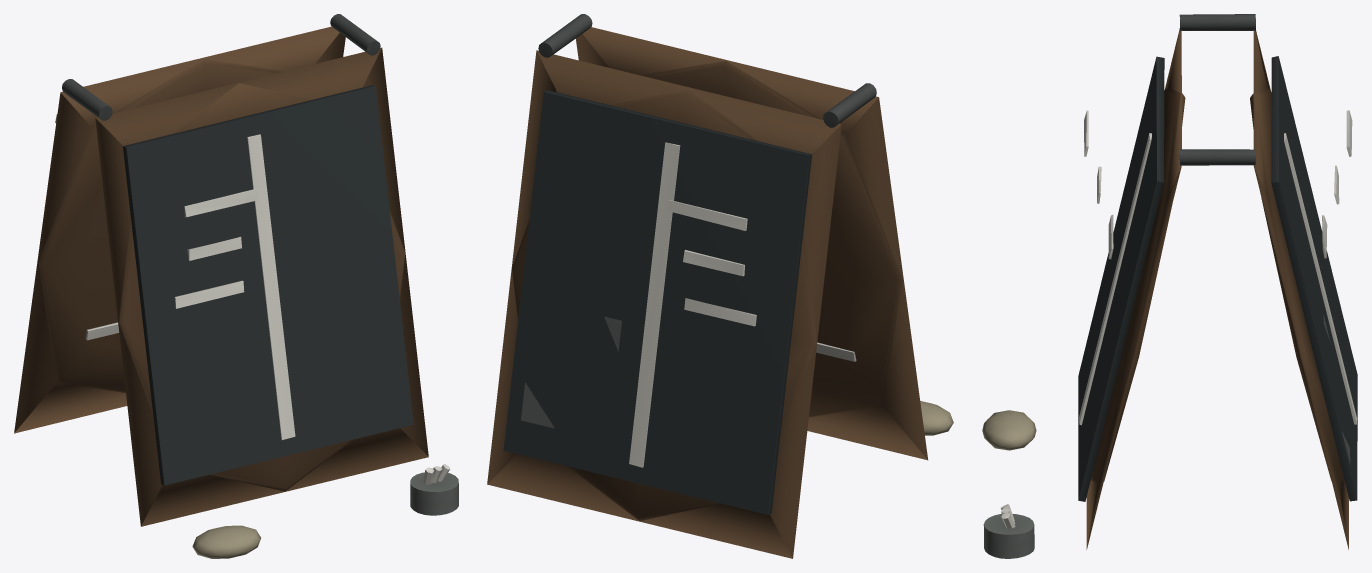
File: shift_board_a.glb
3 renders of one model, left to right at view 1: azimuth 30°, elevation 25°; view 2: azimuth 150°, elevation 25°; view 3: azimuth 270°, elevation 25°, orthographic. The views are drawn at different scales.
Visible parts, largest first — view 1: Surface; view 2: Surface; view 3: Surface.
Part boxes in pixels (x1,y1,x2,y2): Surface: (14, 14, 458, 558); Surface: (487, 14, 953, 558); Surface: (982, 14, 1357, 558).
Bounding box in the file's own units: 0.9015 × 1.19 × 0.9896.
